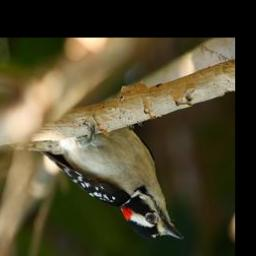Woodpecker: (8, 118, 185, 248)
